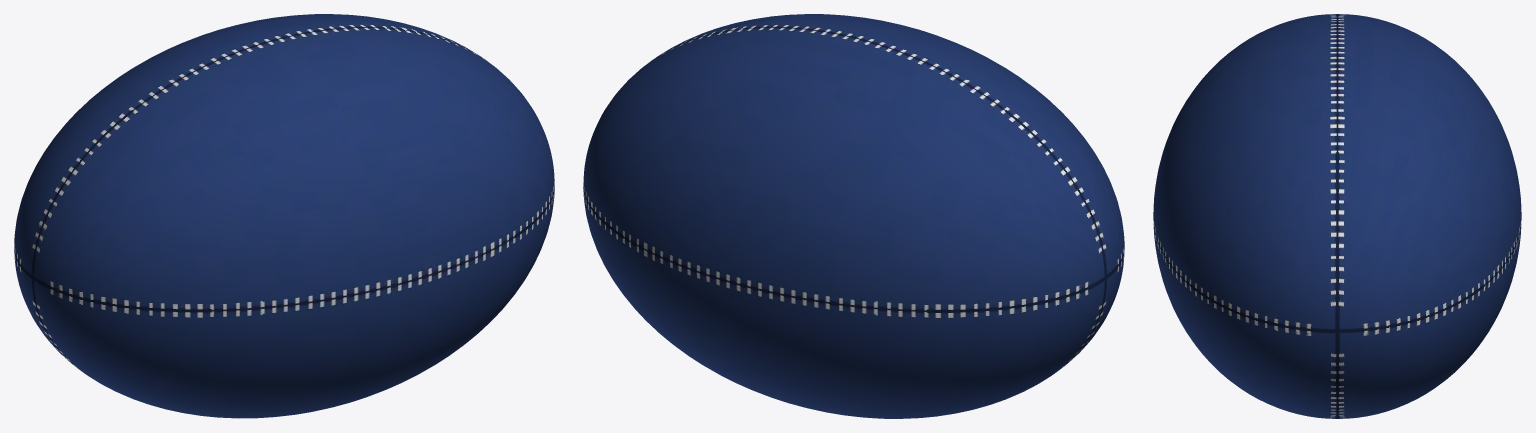
File: ball-rugby-league.glb
The picture shows the model from 3 angles, left to right: view 1: azimuth 30°, elevation 25°; view 2: azimuth 150°, elevation 25°; view 3: azimuth 270°, elevation 25°; orthographic projection. The views are drawn at different scales.
Parts seen in each view (by area): view 1: Ball; view 2: Ball; view 3: Ball.
Boxes of the visible parts, box(x1,y1,x2,y2) form: Ball: box(14, 14, 554, 418); Ball: box(583, 14, 1124, 418); Ball: box(1153, 14, 1521, 418).
Size of the model in its own units: 0.28 by 0.19 by 0.19.
Materials: 2 (2 with a texture image).
